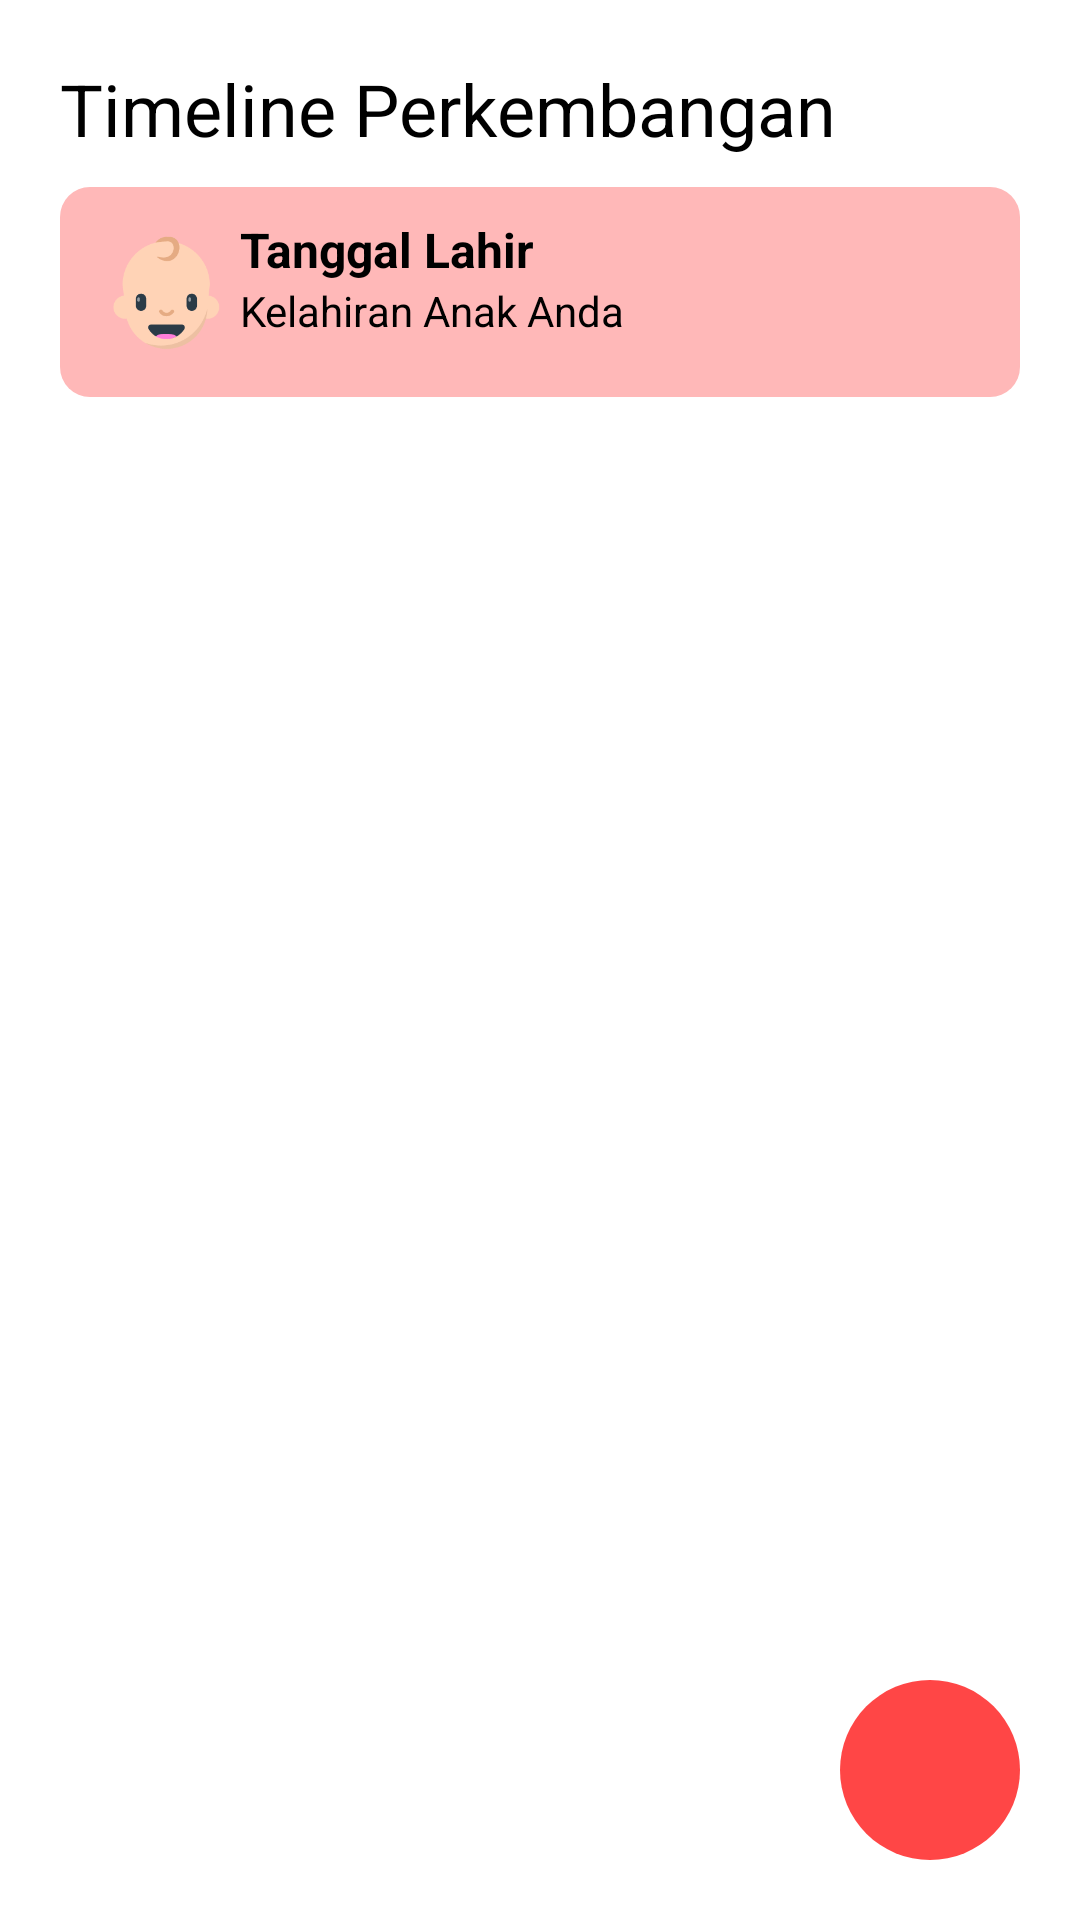

Locate icon controls on the screen. Image size 1080w x 1920h, boxes as box(x1, y1, x2, y2).
baby: box(114, 237, 219, 345)
